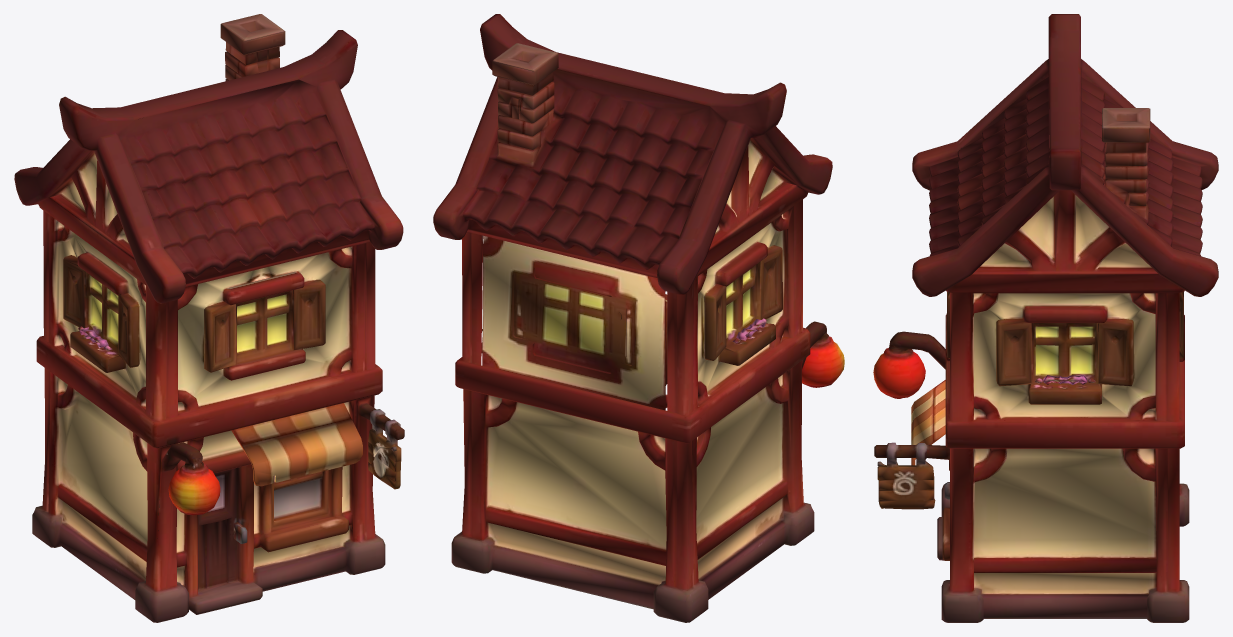
Rendered from noodlehouse_b.glb.
3 views of the same model, side by side, from view 1: azimuth 30°, elevation 25°; view 2: azimuth 150°, elevation 25°; view 3: azimuth 270°, elevation 25° (orthographic). The views are drawn at different scales.
Parts seen in each view (by area): view 1: tripo_node_c13077af-57ff-40a9-9c50-f1d3910099b8; view 2: tripo_node_c13077af-57ff-40a9-9c50-f1d3910099b8; view 3: tripo_node_c13077af-57ff-40a9-9c50-f1d3910099b8.
Boxes of the visible parts, x1,y1,x2,y2 form: tripo_node_c13077af-57ff-40a9-9c50-f1d3910099b8: [14, 14, 404, 622]; tripo_node_c13077af-57ff-40a9-9c50-f1d3910099b8: [433, 14, 844, 622]; tripo_node_c13077af-57ff-40a9-9c50-f1d3910099b8: [873, 14, 1218, 622].
Size of the model in its own units: 0.603 by 0.9781 by 0.6297.
Materials: 1 (1 with a texture image).
